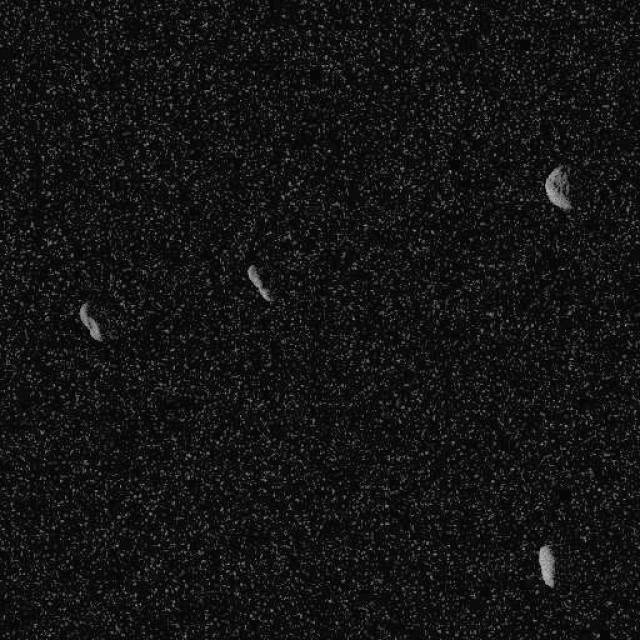D2: (544, 164, 572, 210), (245, 262, 275, 302), (78, 300, 104, 342), (538, 542, 556, 588)
